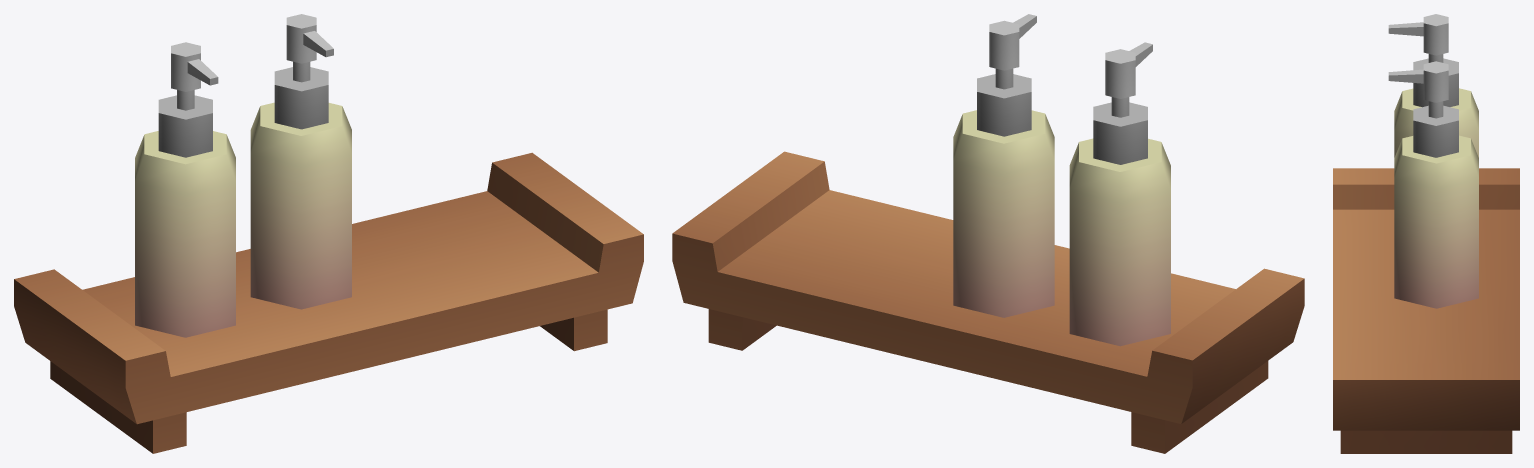
File: SK_onsen_tray.FBX
3 renders of one model, left to right at view 1: azimuth 30°, elevation 25°; view 2: azimuth 150°, elevation 25°; view 3: azimuth 270°, elevation 25°, orthographic. The views are drawn at different scales.
Visible parts, largest first — view 1: SK_onsen_tray; view 2: SK_onsen_tray; view 3: SK_onsen_tray.
Boxes of the visible parts, x1=… form: SK_onsen_tray: x1=14, y1=14, x2=643, y2=453; SK_onsen_tray: x1=672, y1=14, x2=1304, y2=453; SK_onsen_tray: x1=1333, y1=14, x2=1519, y2=453.
Size of the model in its own units: 49.62 by 31.17 by 18.51.
